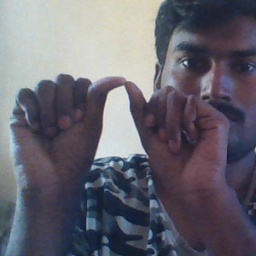A: (30, 64, 203, 178)
